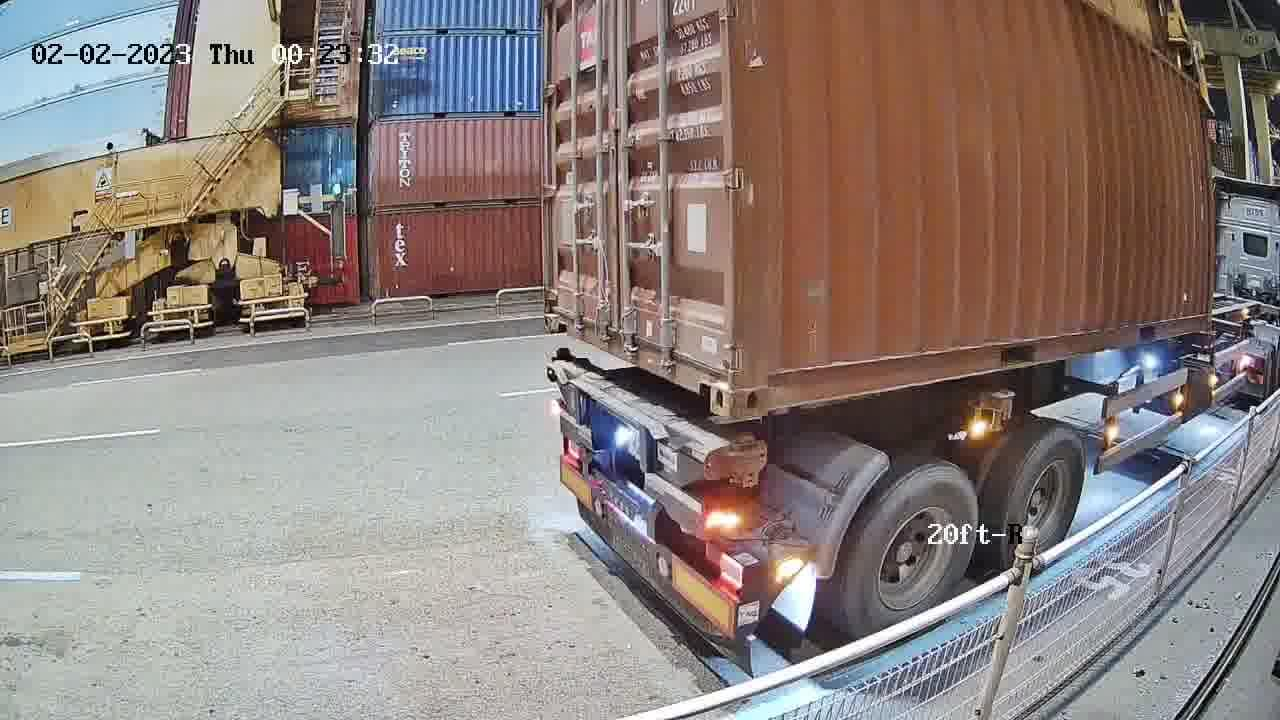Chassis: (547, 355, 762, 484)
Cone: (726, 428, 765, 488), (554, 345, 575, 360)
Hole_L: (731, 346, 808, 418), (542, 293, 579, 337)
Hole_R: (677, 326, 736, 420)
Tire: (846, 462, 979, 642), (992, 423, 1087, 584)
